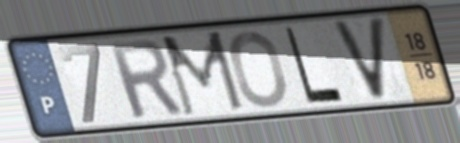7: (56, 42, 104, 125)
L: (282, 24, 347, 106)
M: (157, 27, 248, 120)
O: (227, 28, 291, 110)
R: (104, 36, 187, 122)
V: (328, 14, 389, 104)
